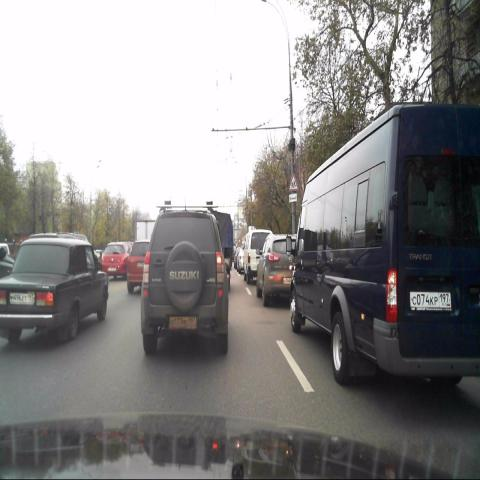1_23: (288, 172, 298, 190)
